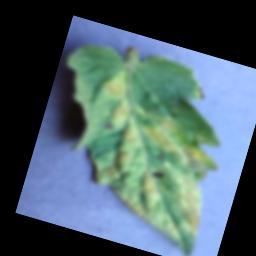Leaf_Mold: (65, 62, 237, 246)
